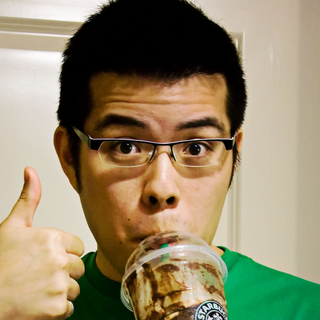eye: (100, 134, 148, 159), (176, 136, 219, 161)
